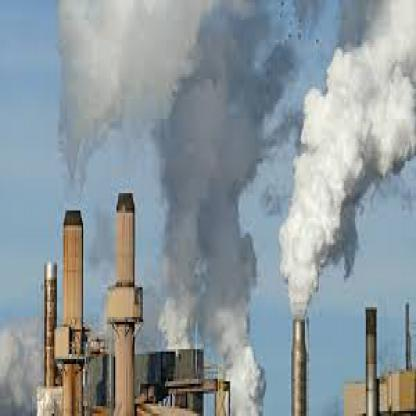Smoke: (283, 3, 414, 314), (52, 1, 201, 182), (165, 187, 253, 347)
